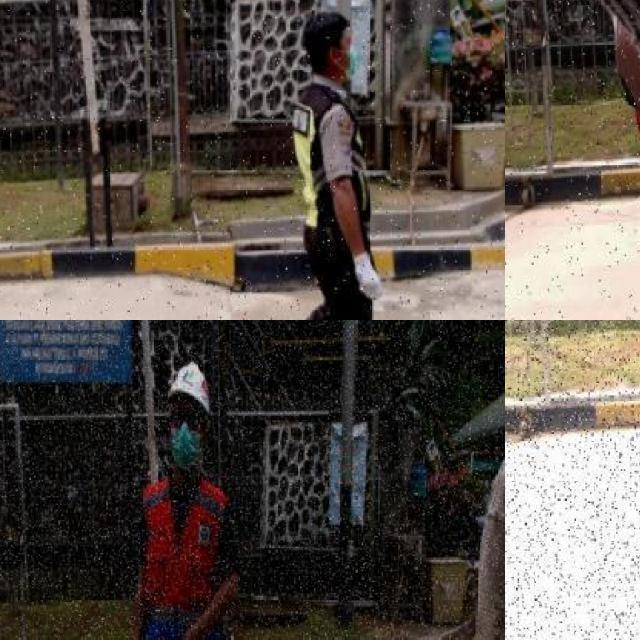apron: (546, 0, 640, 142), (352, 247, 388, 306)
